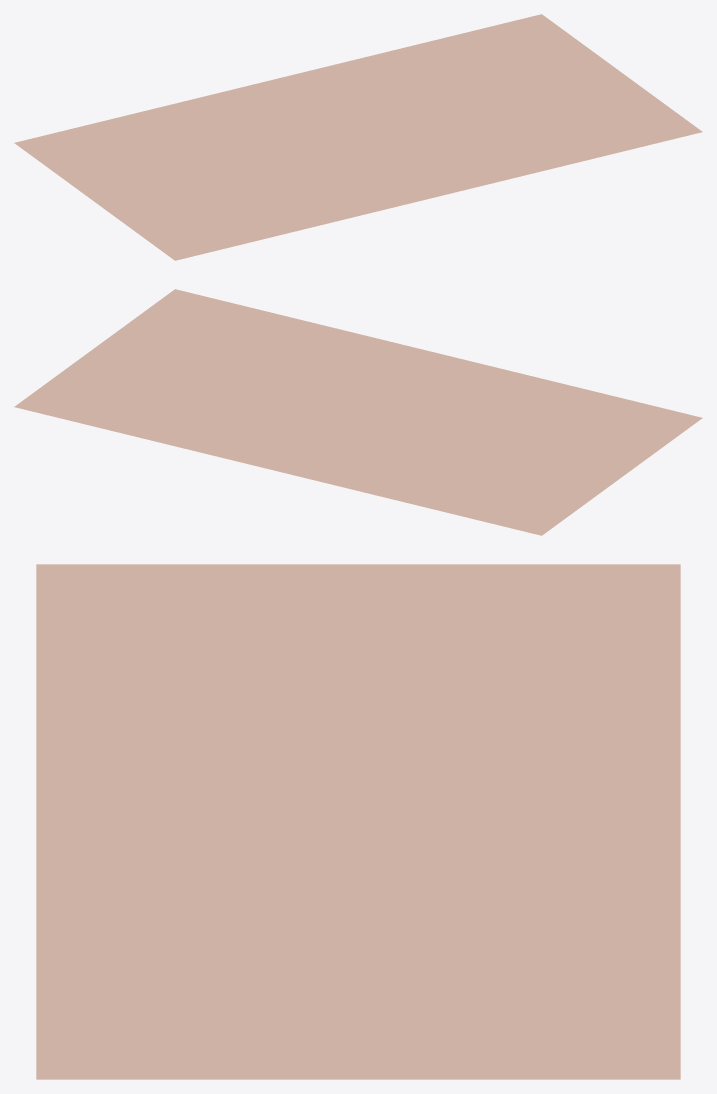
The model's file is Floor.fbx.
3 views of the same model, one above another, from view 1: azimuth 30°, elevation 25°; view 2: azimuth 150°, elevation 25°; view 3: azimuth 270°, elevation 25° (orthographic). The views are drawn at different scales.
Parts seen in each view (by area): view 1: Plane.001; view 2: Plane.001; view 3: Plane.001.
Boxes of the visible parts, x1,y1,x2,y2 form: Plane.001: (14,14,702,260); Plane.001: (14,289,702,535); Plane.001: (36,564,680,1079).
Size of the model in its own units: 753 by 6.49e-05 by 398.
